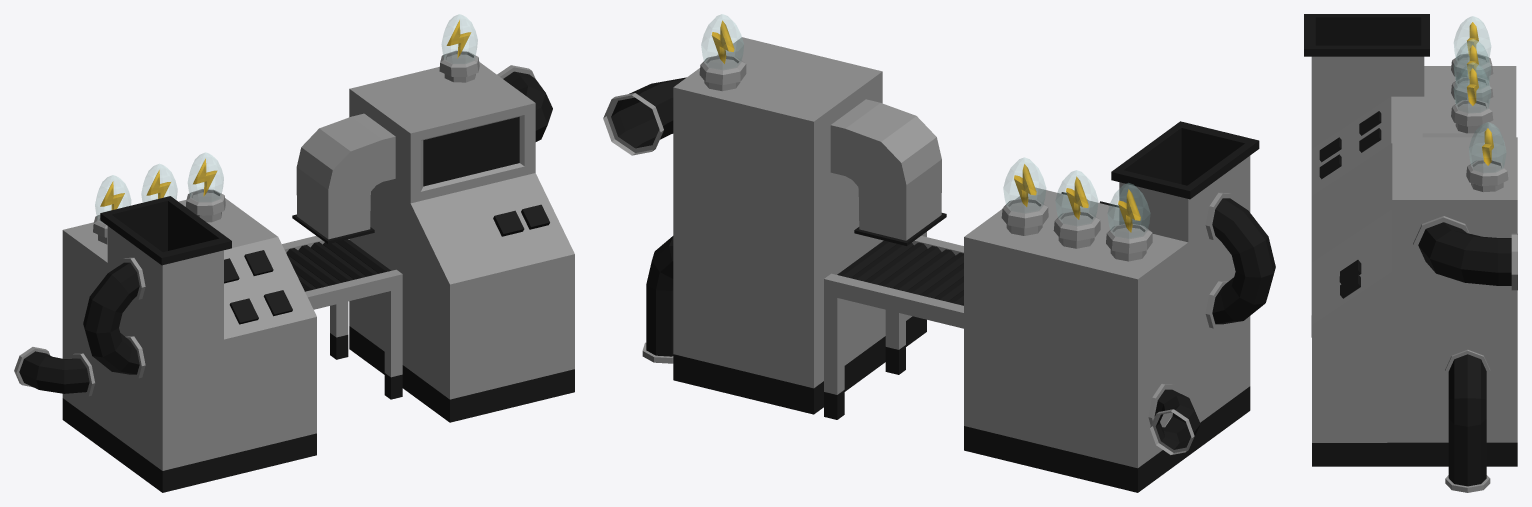
The model's file is obj_machine_metal.FBX.
3 views of the same model, side by side, from view 1: azimuth 30°, elevation 25°; view 2: azimuth 150°, elevation 25°; view 3: azimuth 270°, elevation 25° (orthographic). The views are drawn at different scales.
Parts seen in each view (by area): view 1: obj_machine_metal; view 2: obj_machine_metal; view 3: obj_machine_metal.
Boxes of the visible parts, box(x1,y1,x2,y2) form: obj_machine_metal: box(14, 14, 574, 492); obj_machine_metal: box(603, 14, 1275, 492); obj_machine_metal: box(1304, 14, 1517, 492).
Bounding box in the file's own units: 23.23 × 13.72 × 8.02.
